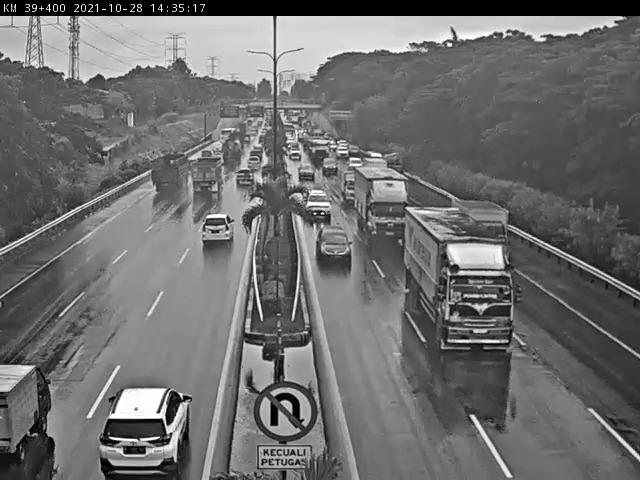big truck: (420, 206, 523, 345), (356, 163, 404, 233), (154, 151, 181, 198), (192, 156, 219, 199), (224, 136, 243, 160)
car: (119, 377, 185, 467), (0, 358, 45, 447), (318, 215, 350, 253), (201, 215, 234, 249), (306, 181, 324, 208), (338, 171, 356, 195), (297, 159, 315, 178), (248, 157, 262, 176), (323, 153, 336, 173), (233, 176, 253, 188), (289, 145, 300, 159), (349, 156, 356, 167)
